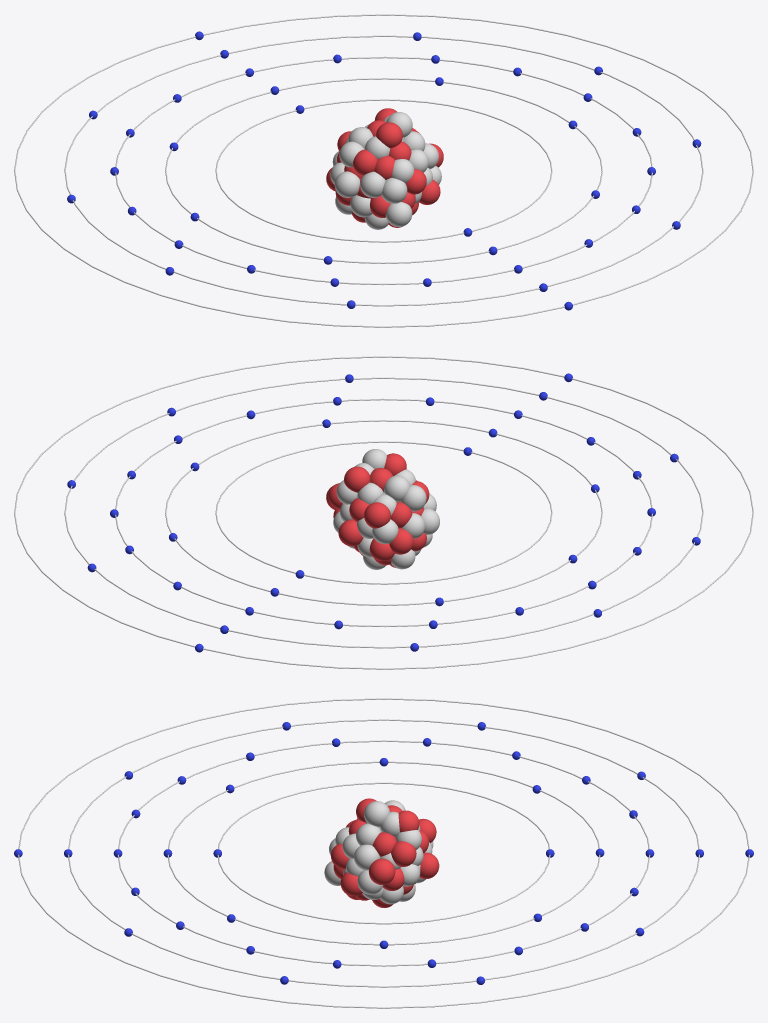
File: Zirconium.glb
3 views of the same model, one above another, from view 1: azimuth 30°, elevation 25°; view 2: azimuth 150°, elevation 25°; view 3: azimuth 270°, elevation 25° (orthographic).
Parts seen in each view (by area): view 1: O-Schale, N-Schale, M-Schale, L-Schale, K-Schale, Neutron 44, Neutron 42, Neutron 50, Proton 40; view 2: O-Schale, N-Schale, M-Schale, L-Schale, K-Schale, Proton 34; view 3: O-Schale, N-Schale, M-Schale, L-Schale, K-Schale, Proton 38, Proton 29.
Part boxes in pixels (x1,y1,x2,y2): O-Schale: [14, 14, 753, 327]; N-Schale: [64, 35, 703, 306]; M-Schale: [115, 56, 652, 285]; L-Schale: [165, 78, 602, 263]; K-Schale: [215, 99, 552, 242]; Neutron 44: [334, 171, 359, 197]; Neutron 42: [381, 177, 407, 203]; Neutron 50: [385, 202, 412, 226]; Proton 40: [376, 122, 402, 148]; O-Schale: [14, 356, 753, 669]; N-Schale: [64, 377, 703, 648]; M-Schale: [115, 398, 652, 627]; L-Schale: [165, 420, 602, 605]; K-Schale: [215, 441, 552, 584]; Proton 34: [364, 502, 390, 528]; O-Schale: [18, 698, 749, 1008]; N-Schale: [68, 719, 699, 987]; M-Schale: [117, 740, 650, 966]; L-Schale: [167, 761, 600, 945]; K-Schale: [217, 782, 550, 924]; Proton 38: [368, 858, 395, 884]; Proton 29: [391, 841, 416, 866].
Bounding box in the file's own units: 22.04 × 3.48 × 22.26.
